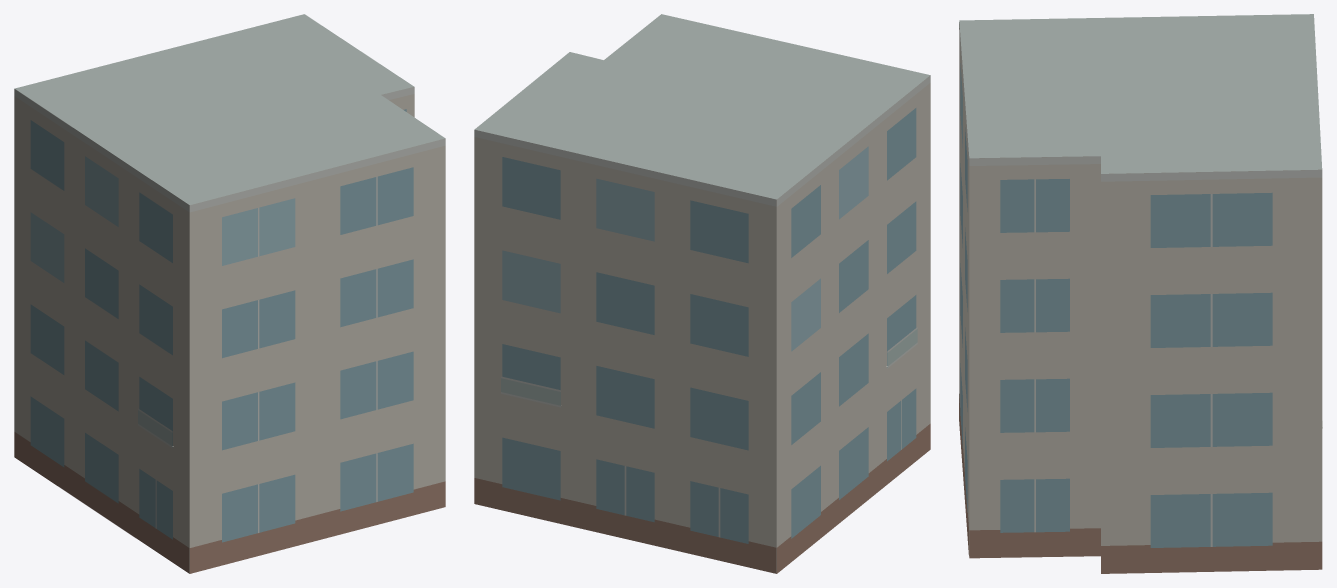
The model's file is survey-upis-32843243.glb.
3 renders of one model, left to right at view 1: azimuth 30°, elevation 25°; view 2: azimuth 150°, elevation 25°; view 3: azimuth 270°, elevation 25°, orthographic. The views are drawn at different scales.
Parts seen in each view (by area): view 1: survey-upis-32843243.tmp; view 2: survey-upis-32843243.tmp; view 3: survey-upis-32843243.tmp.
Boxes of the visible parts, x1,y1,x2,y2 form: survey-upis-32843243.tmp: (14, 14, 445, 573); survey-upis-32843243.tmp: (474, 14, 930, 573); survey-upis-32843243.tmp: (959, 14, 1322, 573).
Size of the model in its own units: 10.71 by 12.48 by 10.29.
